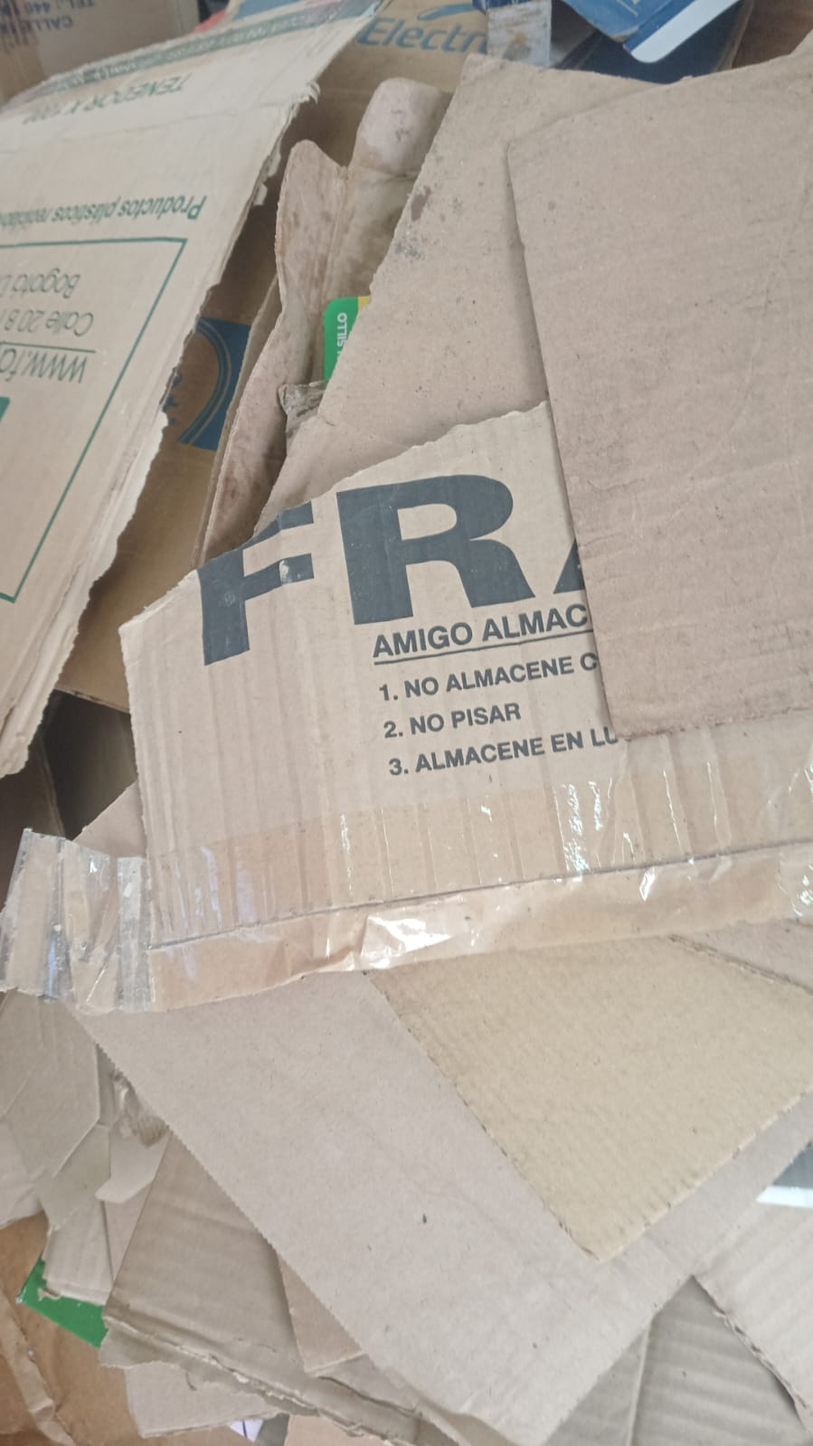Carton: (133, 413, 809, 940), (117, 942, 813, 1436), (4, 8, 371, 762), (514, 69, 813, 732)
